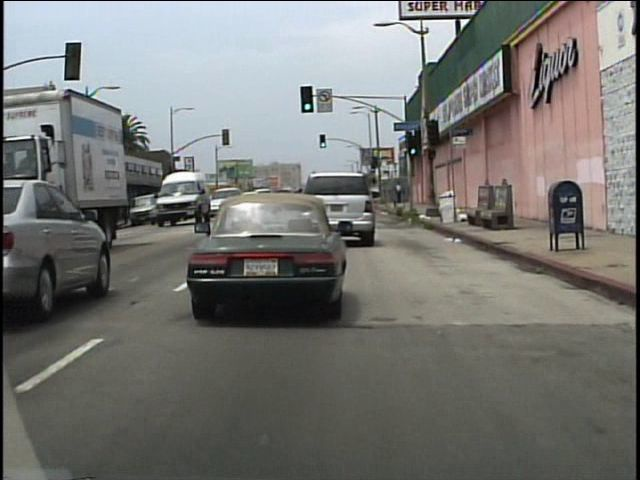person: (395, 182, 405, 205)
